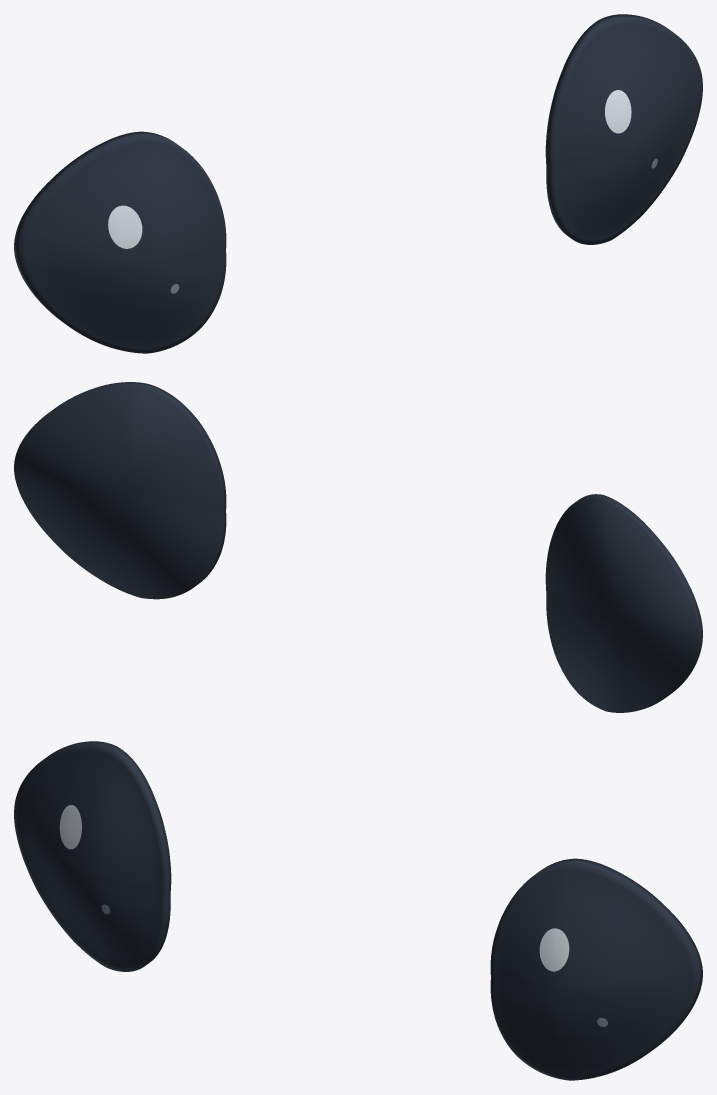
The model's file is Masculine-eyes-tapered.glb.
The picture shows the model from 3 angles, top to bottom: view 1: azimuth 30°, elevation 25°; view 2: azimuth 150°, elevation 25°; view 3: azimuth 330°, elevation 25°; orthographic projection.
Visible parts, largest first — view 1: 226 eyes / Eye / smoky charcoal181, 226 eyes / Eye highlight181; view 2: 226 eyes / Eye / smoky charcoal181; view 3: 226 eyes / Eye / smoky charcoal181, 226 eyes / Eye highlight181.
Boxes of the visible parts, x1,y1,x2,y2 form: 226 eyes / Eye / smoky charcoal181: [14, 14, 702, 353]; 226 eyes / Eye highlight181: [108, 90, 631, 248]; 226 eyes / Eye / smoky charcoal181: [14, 382, 702, 712]; 226 eyes / Eye / smoky charcoal181: [14, 741, 702, 1080]; 226 eyes / Eye highlight181: [59, 805, 569, 971].
Bounding box in the file's own units: 0.4202 × 0.1261 × 0.04.
